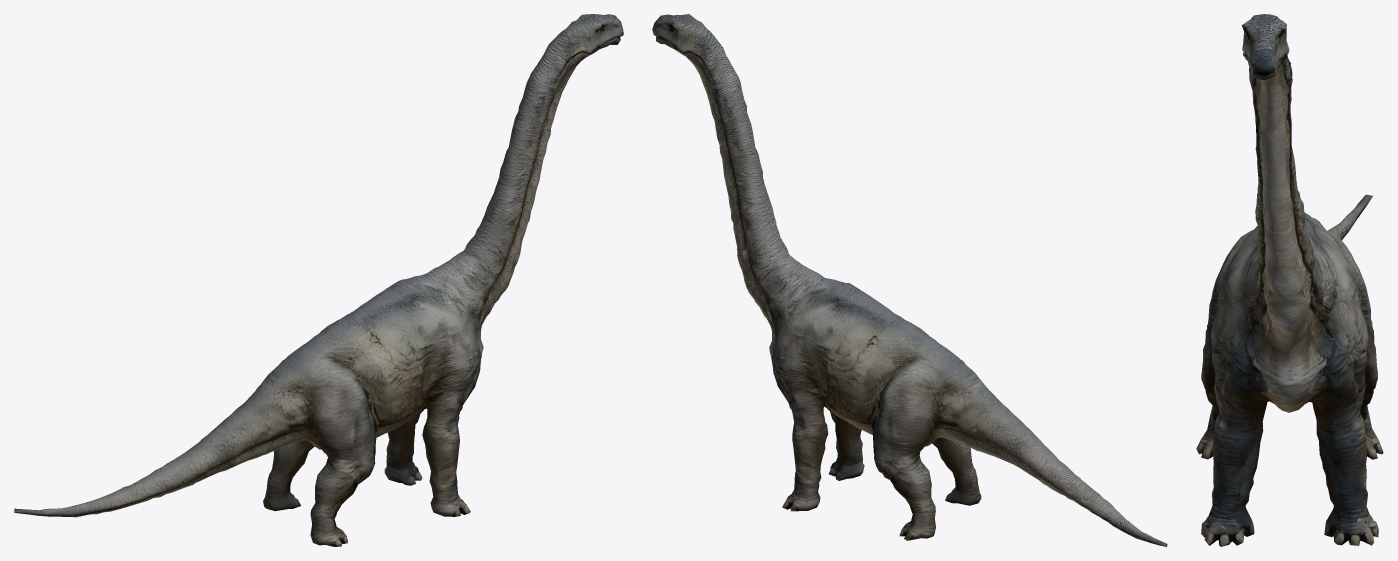
Rendered from bronto.glb.
3 views of the same model, side by side, from view 1: azimuth 30°, elevation 25°; view 2: azimuth 150°, elevation 25°; view 3: azimuth 270°, elevation 25° (orthographic). The views are drawn at different scales.
Visible parts, largest first — view 1: tripo_node_a49410c6-f054-4726-84a2-57e462a97d51; view 2: tripo_node_a49410c6-f054-4726-84a2-57e462a97d51; view 3: tripo_node_a49410c6-f054-4726-84a2-57e462a97d51.
Part boxes in pixels (<box>): tripo_node_a49410c6-f054-4726-84a2-57e462a97d51: <box>14,14,623,546</box>; tripo_node_a49410c6-f054-4726-84a2-57e462a97d51: <box>652,14,1167,546</box>; tripo_node_a49410c6-f054-4726-84a2-57e462a97d51: <box>1196,14,1383,546</box>.
Bounding box in the file's own units: 1 × 0.7489 × 0.2038.
Materials: 1 (1 with a texture image).
